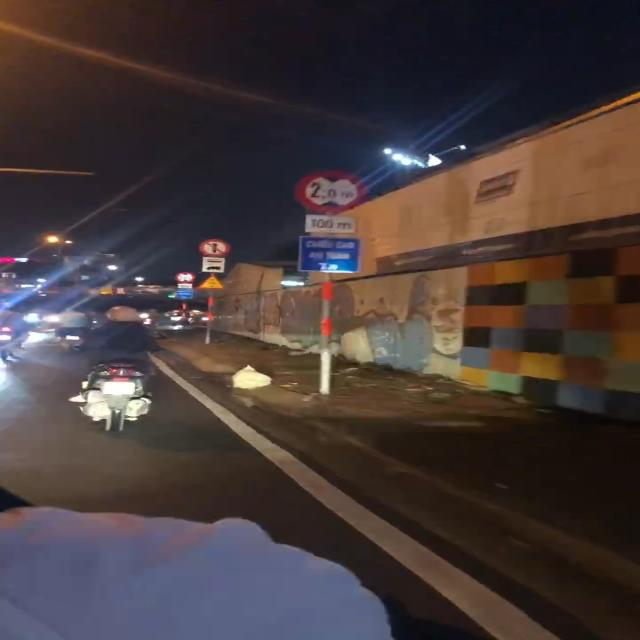Bien bao cam di thang: (197, 236, 234, 258)
Bien bao han che chieu cao: (296, 170, 368, 213)
